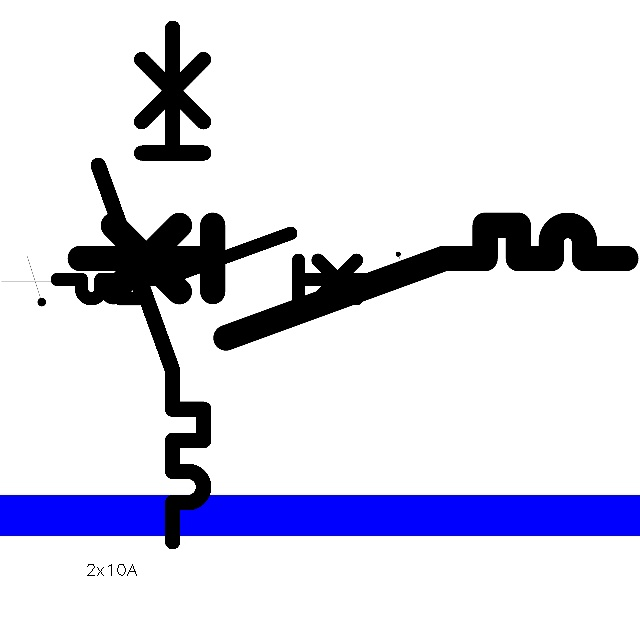interruptor_termomagnetico: (65, 211, 639, 351), (85, 15, 217, 555), (49, 225, 384, 307)
